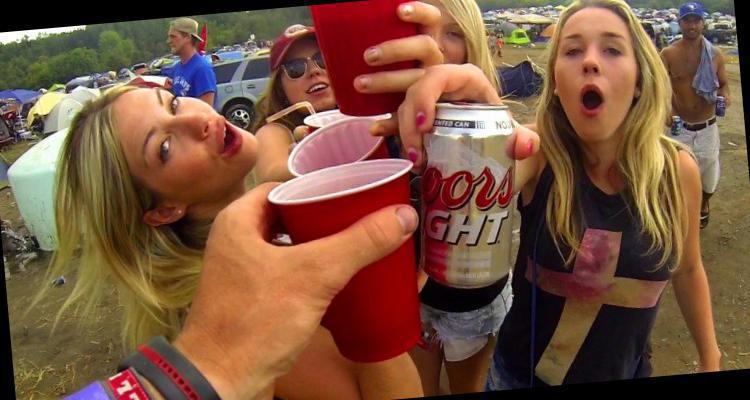Drunk: (110, 89, 258, 188), (557, 14, 636, 138)
